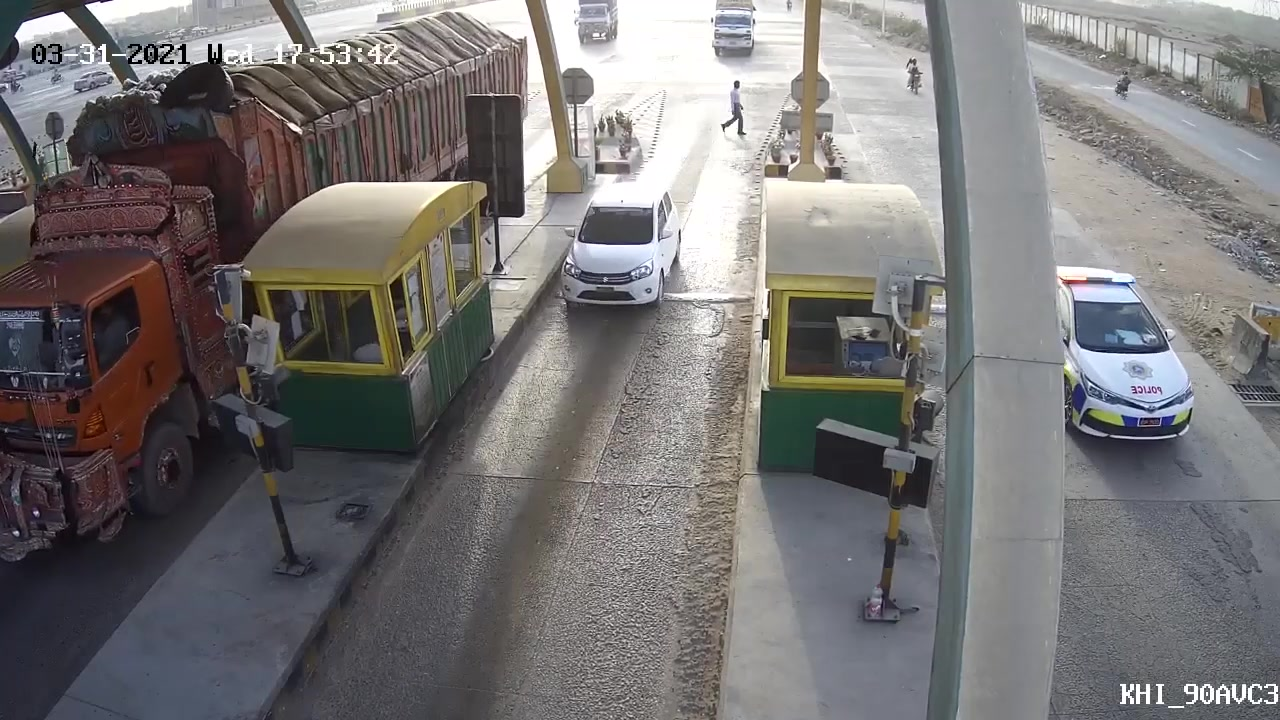F6: (531, 181, 682, 316)
